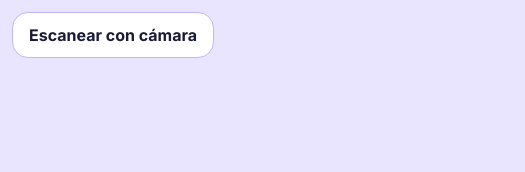
EscanerCamara › informa si el navegador no ofrece acceso a la cámara
Click the button "Escanear con cámara": (113, 35) [12,12,214,58]
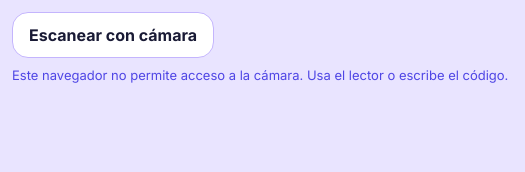
Check: the message shows "Este navegador no permite acceso a la cámara.", box [12,67,508,83]
